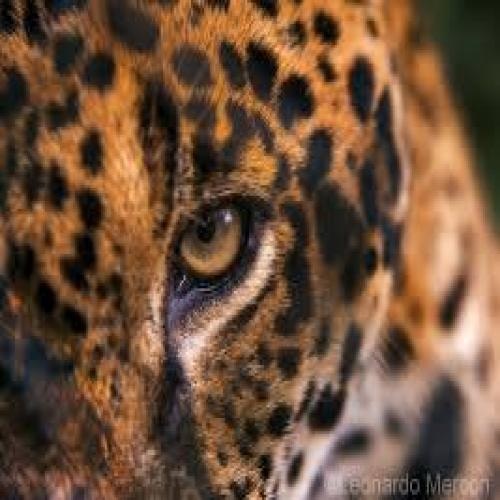jaguar_not-endangered: (12, 9, 479, 495)
